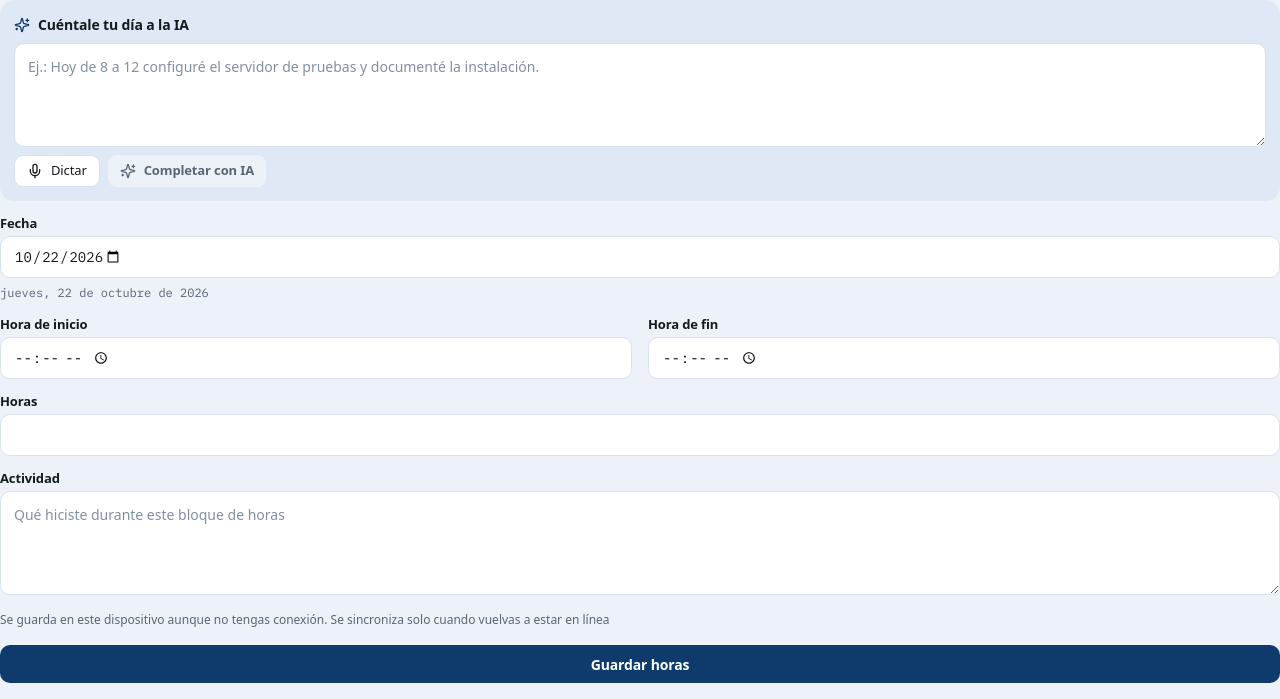
Test case: Cuéntale tu día a la IA (estudiante) › si falta algo, muestra la pregunta para completarlo y las advertencias de las reglas
Replace the text in the text box labelled "Cuéntale tu día a la IA" with "hice el informe": (640, 95) [14,43,1266,147]
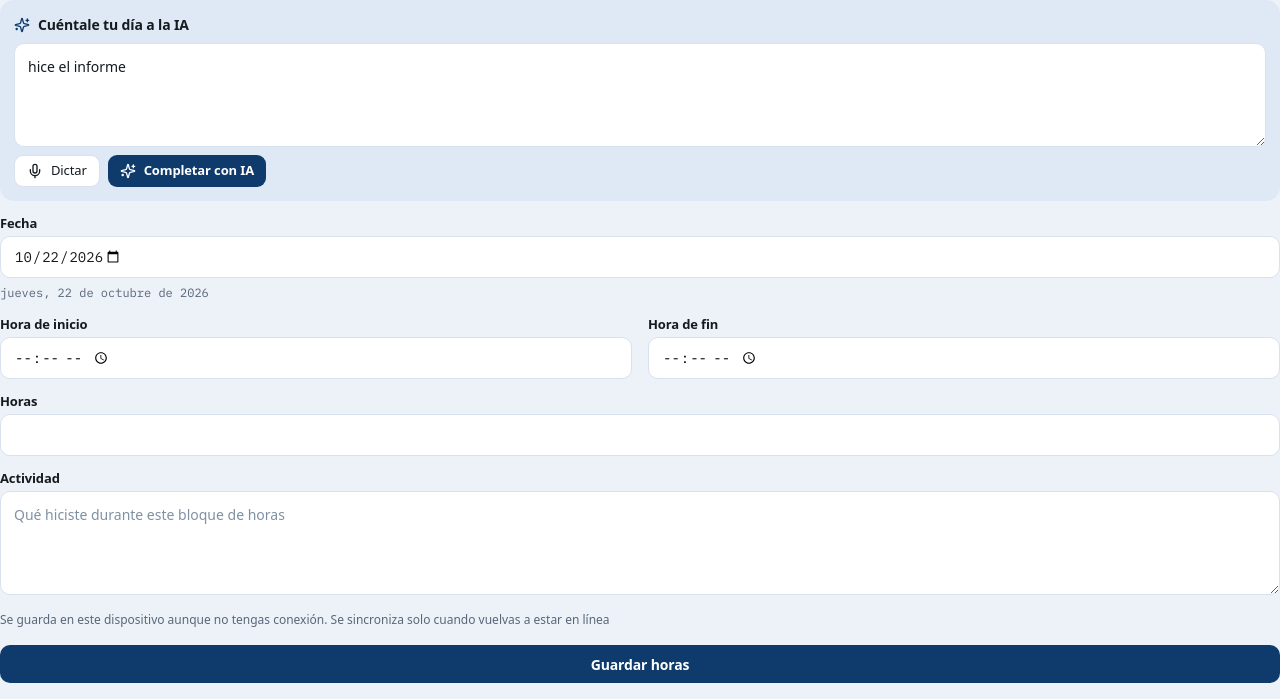
Click the button "Completar con IA": (187, 171) [108,155,266,187]
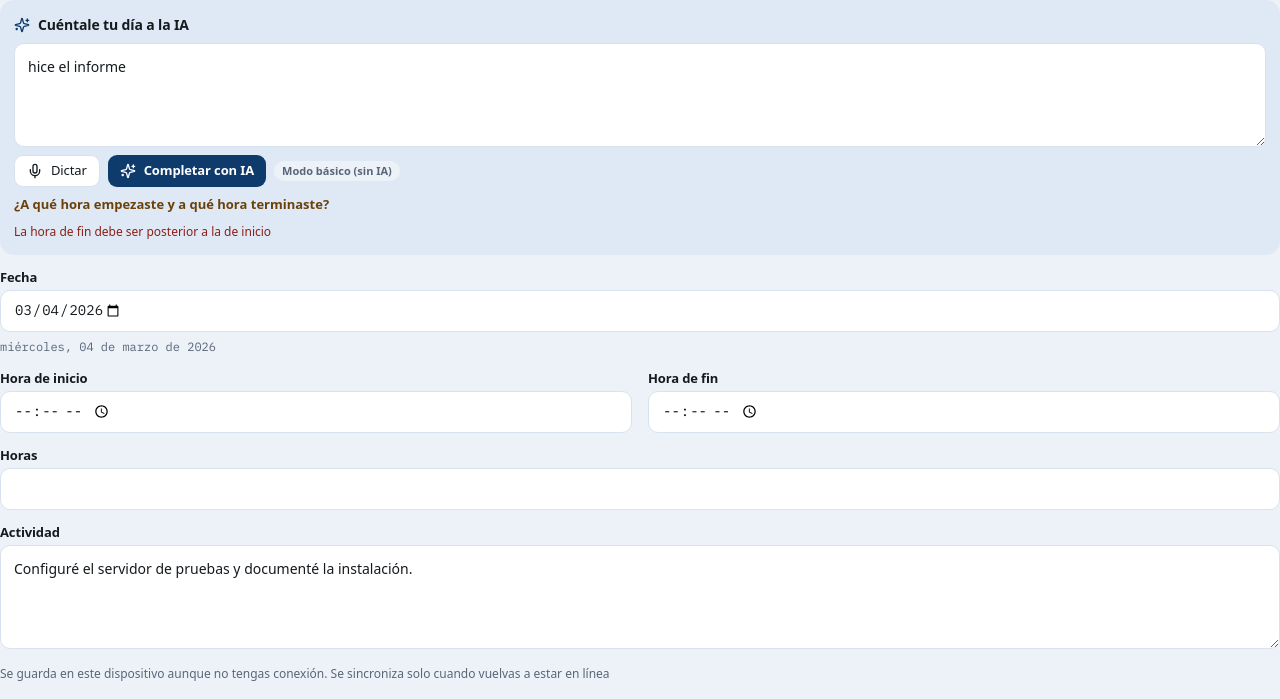
Expected: the text "¿A qué hora empezaste y a qué hora terminaste?" is shown, [14,195,329,213]
Expected: the text "La hora de fin debe ser posterior a la de inicio" is shown, [14,222,271,240]
Expected: the text "Modo básico (sin IA)" is shown, [274,161,400,181]
